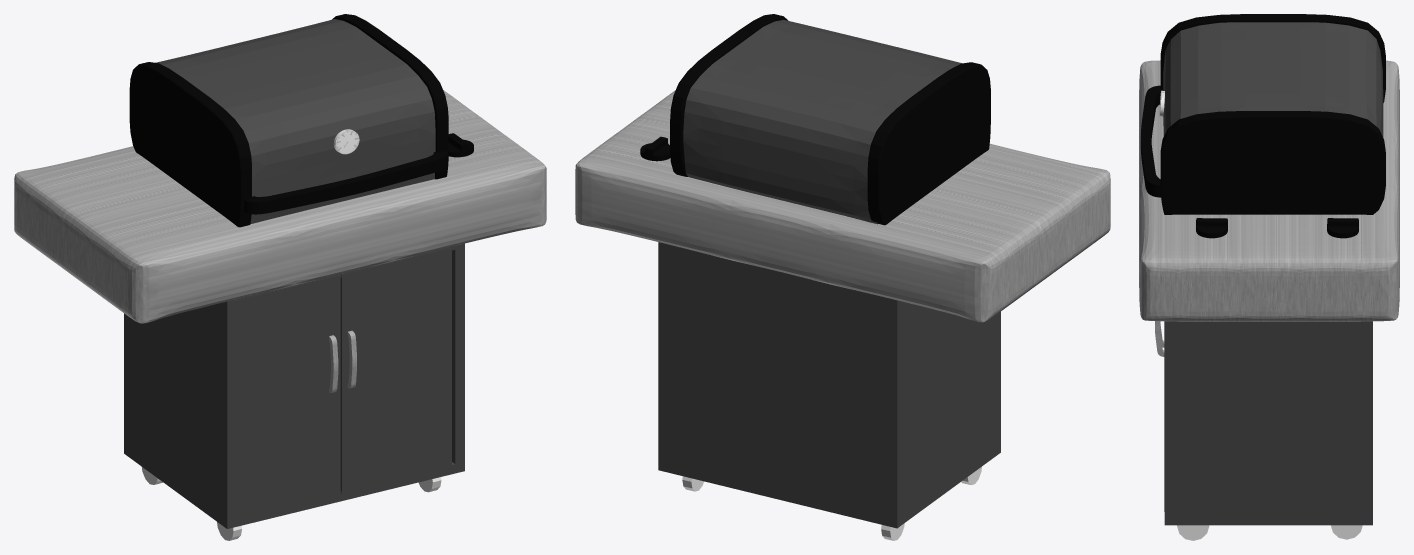
The model's file is sweethome3d-contributions-grill.glb.
3 views of the same model, side by side, from view 1: azimuth 30°, elevation 25°; view 2: azimuth 150°, elevation 25°; view 3: azimuth 270°, elevation 25° (orthographic).
Parts seen in each view (by area): view 1: PolyMesh_1, PolyMesh_2, PolyMesh_3, Cube_1_1, Cube_1, PolyMesh_4_1, PolyMesh_5, PolyMesh_4; view 2: PolyMesh_3, PolyMesh_1, PolyMesh_2, PolyMesh_4_1, PolyMesh_4; view 3: PolyMesh_3, PolyMesh_1, PolyMesh_4, PolyMesh_2, PolyMesh_4_1, PolyMesh_5, knob, knob_1, PolyMesh_6_2, PolyMesh_6_1.
Part boxes in pixels (x1=…): PolyMesh_1: x1=14, y1=90, x2=546, y2=323; PolyMesh_2: x1=156, y1=19, x2=435, y2=224; PolyMesh_3: x1=124, y1=243, x2=464, y2=528; Cube_1_1: x1=340, y1=248, x2=451, y2=494; Cube_1: x1=233, y1=275, x2=340, y2=520; PolyMesh_4_1: x1=129, y1=62, x2=251, y2=227; PolyMesh_5: x1=243, y1=150, x2=447, y2=214; PolyMesh_4: x1=332, y1=14, x2=448, y2=179; PolyMesh_3: x1=658, y1=242, x2=1000, y2=528; PolyMesh_1: x1=575, y1=90, x2=1110, y2=322; PolyMesh_2: x1=683, y1=20, x2=961, y2=224; PolyMesh_4_1: x1=867, y1=62, x2=990, y2=225; PolyMesh_4: x1=670, y1=14, x2=788, y2=176; PolyMesh_3: x1=1164, y1=321, x2=1372, y2=525; PolyMesh_1: x1=1139, y1=60, x2=1399, y2=321; PolyMesh_4: x1=1160, y1=111, x2=1385, y2=214; PolyMesh_2: x1=1163, y1=22, x2=1383, y2=137; PolyMesh_4_1: x1=1160, y1=14, x2=1385, y2=102; PolyMesh_5: x1=1141, y1=85, x2=1163, y2=197; knob: x1=1327, y1=218, x2=1358, y2=238; knob_1: x1=1196, y1=218, x2=1227, y2=238; PolyMesh_6_2: x1=1177, y1=525, x2=1209, y2=540; PolyMesh_6_1: x1=1331, y1=525, x2=1362, y2=539.
Size of the model in its own units: 3.62 by 3.5 by 1.95.
Materials: 5 (2 with a texture image).
